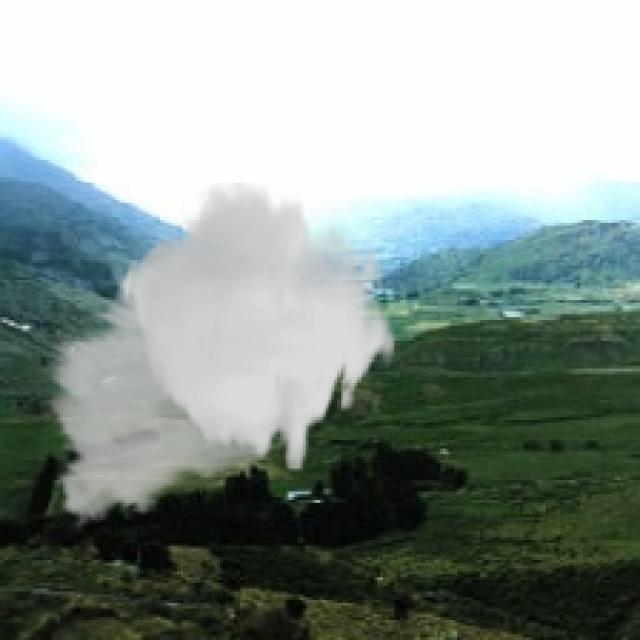smoke: (37, 183, 397, 537)
